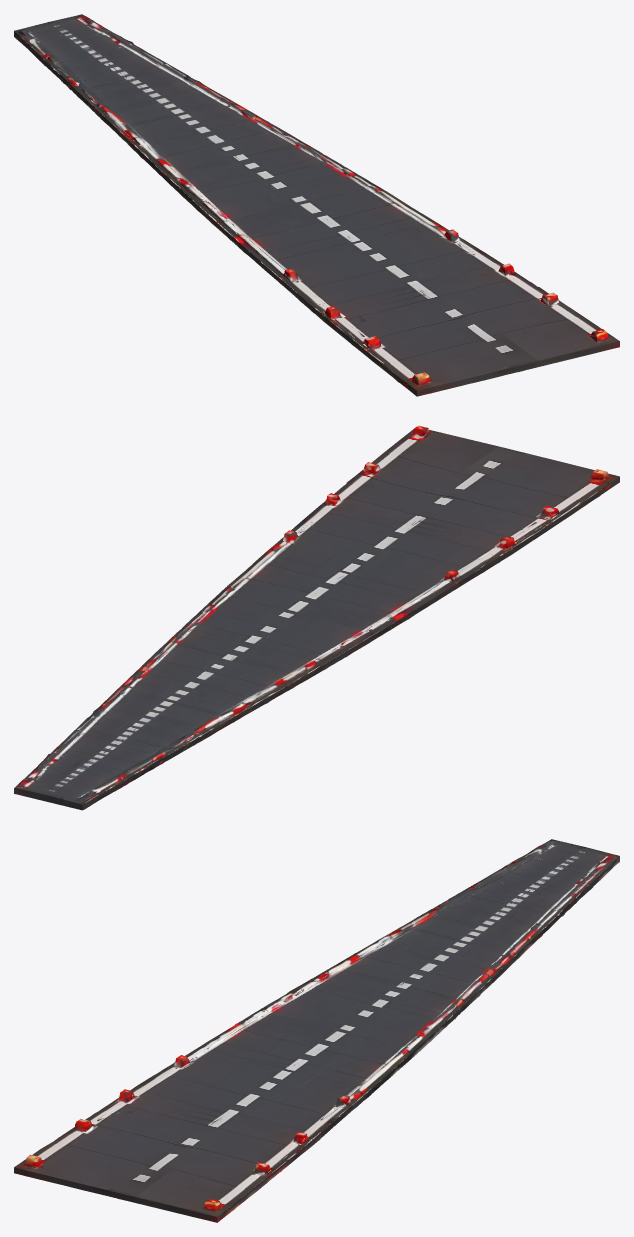
File: runway.glb
3 views of the same model, one above another, from view 1: azimuth 30°, elevation 25°; view 2: azimuth 150°, elevation 25°; view 3: azimuth 330°, elevation 25° (orthographic).
Visible parts, largest first — view 1: runway; view 2: runway; view 3: runway.
Part boxes in pixels (x1,y1,x2,y2): runway: (14,14,619,396); runway: (14,425,619,810); runway: (14,839,619,1222).
Bounding box in the file's own units: 0.2908 × 0.0196 × 1.16.
Materials: 1 (1 with a texture image).
